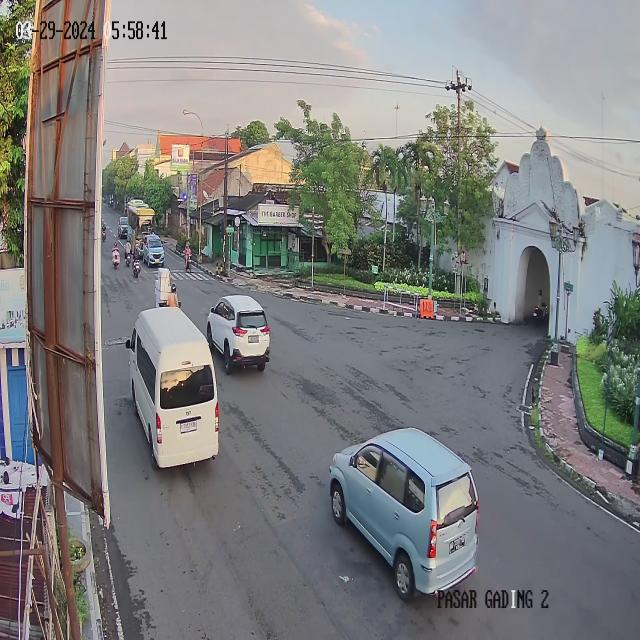bus: (124, 303, 220, 470), (126, 200, 156, 252), (126, 196, 151, 232)
car: (328, 424, 482, 605), (205, 293, 271, 376), (143, 231, 165, 270), (117, 214, 130, 238)
motorcycle: (155, 266, 182, 312), (533, 287, 547, 325), (131, 244, 142, 280), (111, 239, 121, 271), (183, 244, 193, 275), (124, 239, 132, 269), (101, 222, 108, 244)
